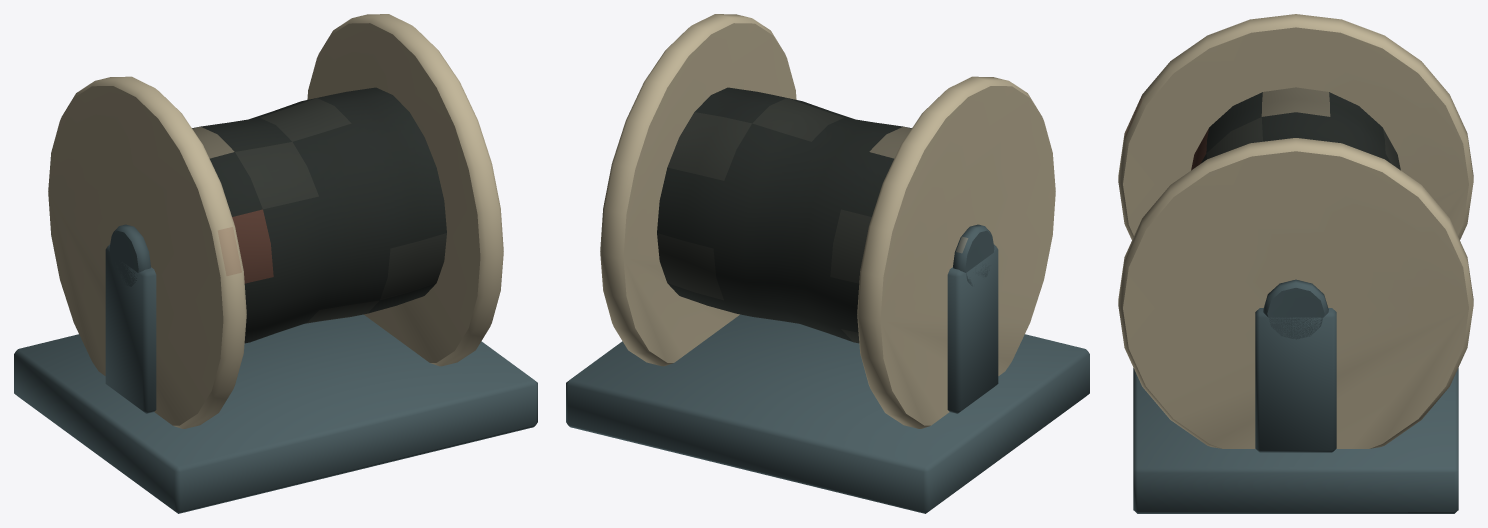
File: prop_spool.glb
The picture shows the model from 3 angles, left to right: view 1: azimuth 30°, elevation 25°; view 2: azimuth 150°, elevation 25°; view 3: azimuth 270°, elevation 25°; orthographic projection.
Visible parts, largest first — view 1: Surface; view 2: Surface; view 3: Surface.
Part boxes in pixels (x1,y1,x2,y2): Surface: (14, 14, 537, 513); Surface: (566, 14, 1089, 513); Surface: (1118, 14, 1473, 513).
Size of the model in its own units: 2.8 by 2.6 by 2.4.
